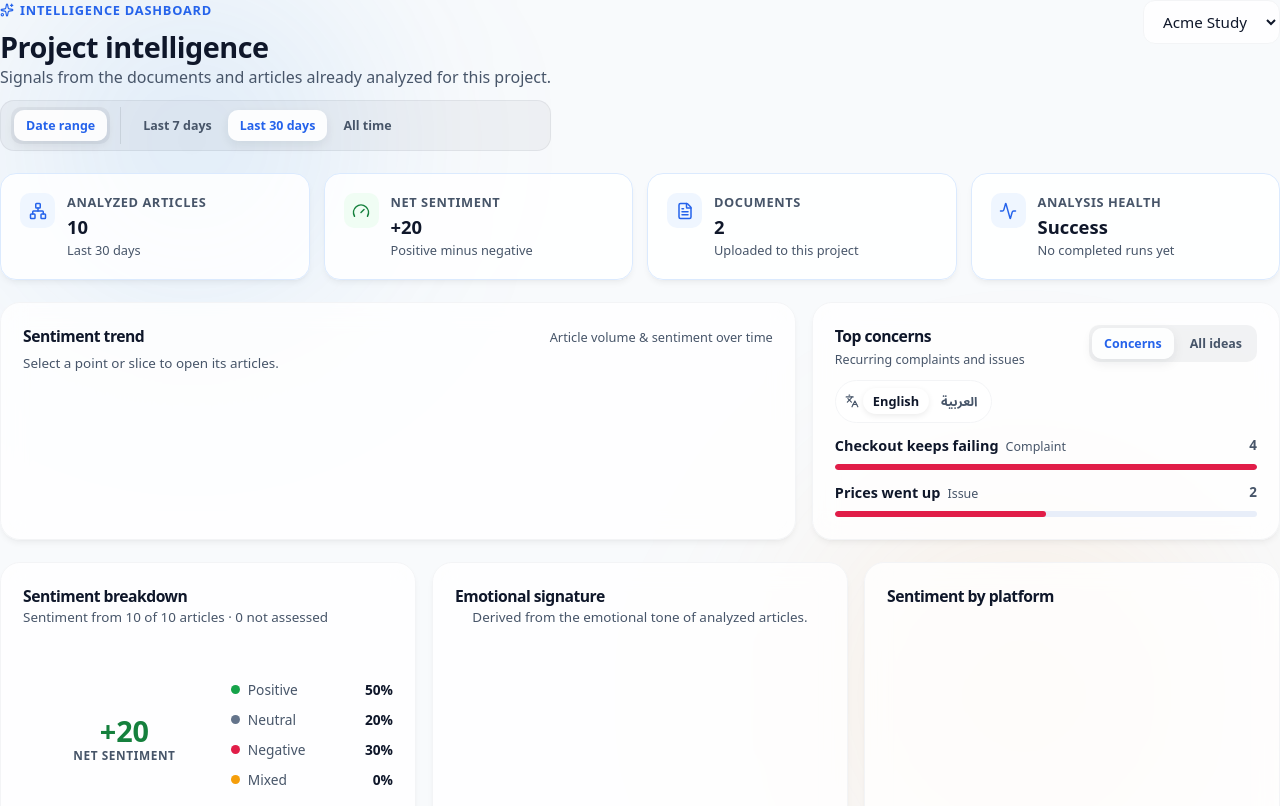
Test: DashboardOverview › paginates ideas 3 at a time and resets to page 1 when the filter changes
What coordinates should you click on to do the following:
click the tab "All ideas"
I would click on:
 (1216, 343)
Its box is 1178,328 -> 1254,359.
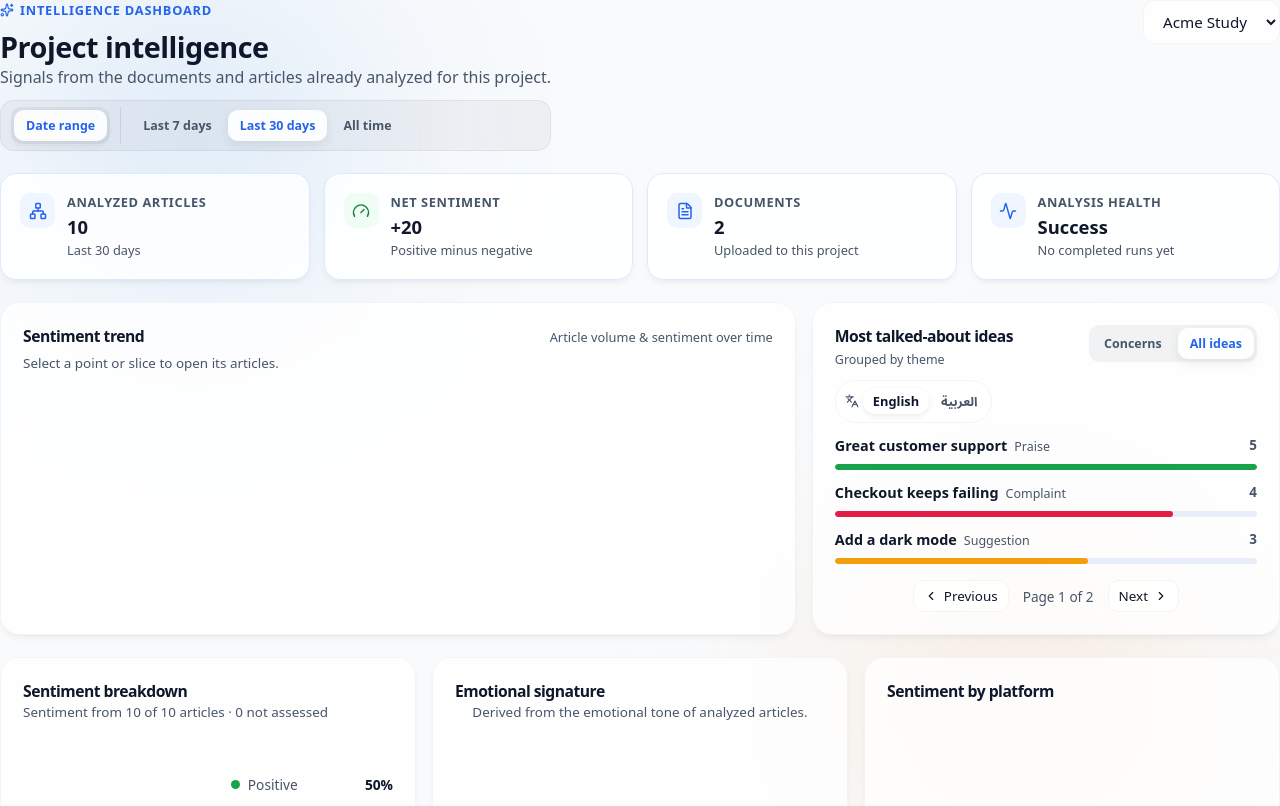
Now the text "Great customer support" is shown, box 835,436 -> 1007,456
Now the text "Add a dark mode" is shown, box 835,530 -> 957,550
Now the text "Prices went up" is gone
What coordinates should you click on to do the following:
click the button "Next"
I would click on:
 (1143, 596)
Its box is 1108,580 -> 1179,612.
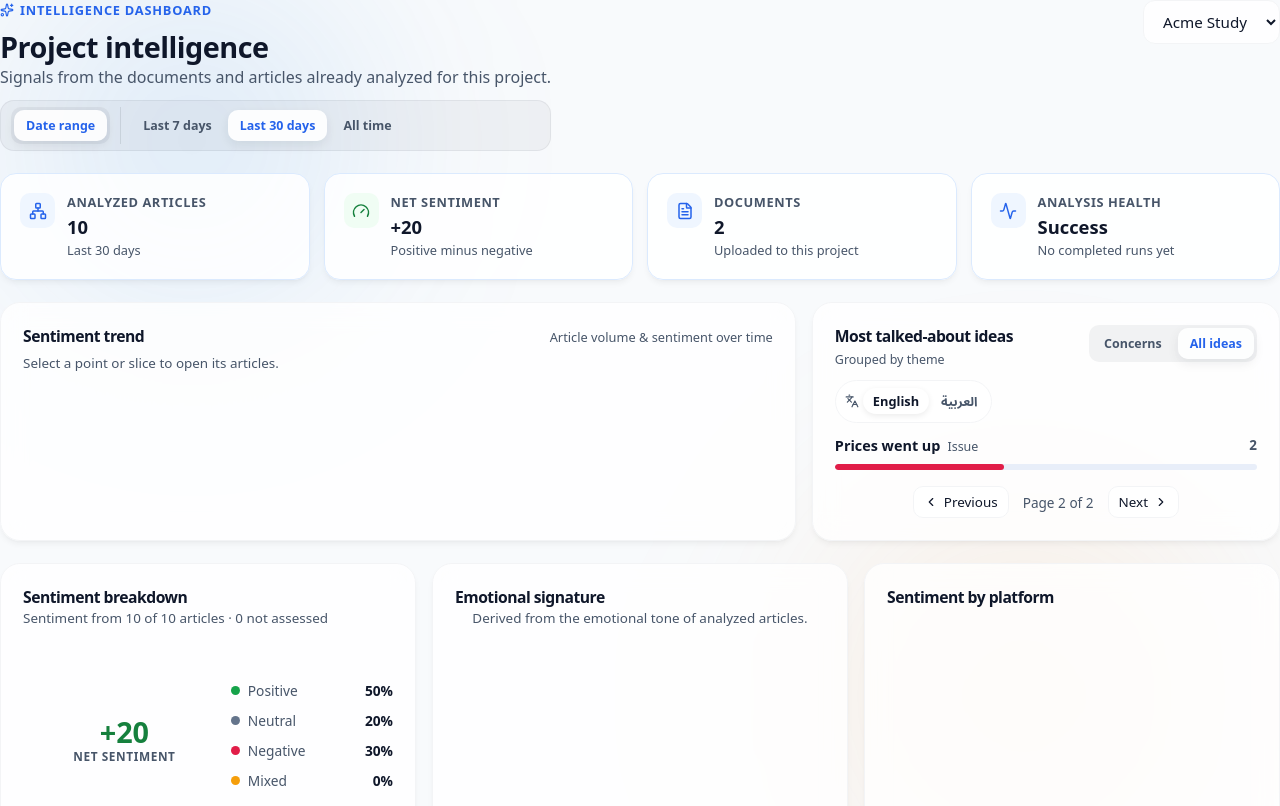
Now the text "Prices went up" is shown, box 835,436 -> 940,456
Now the text "Great customer support" is gone
Now the text "Page 2 of 2" is shown, box 1023,493 -> 1094,512
What coordinates should you click on to do the following:
click the tab "Concerns"
I would click on:
 (1133, 343)
Its box is 1092,328 -> 1174,359.
(page scrolled)
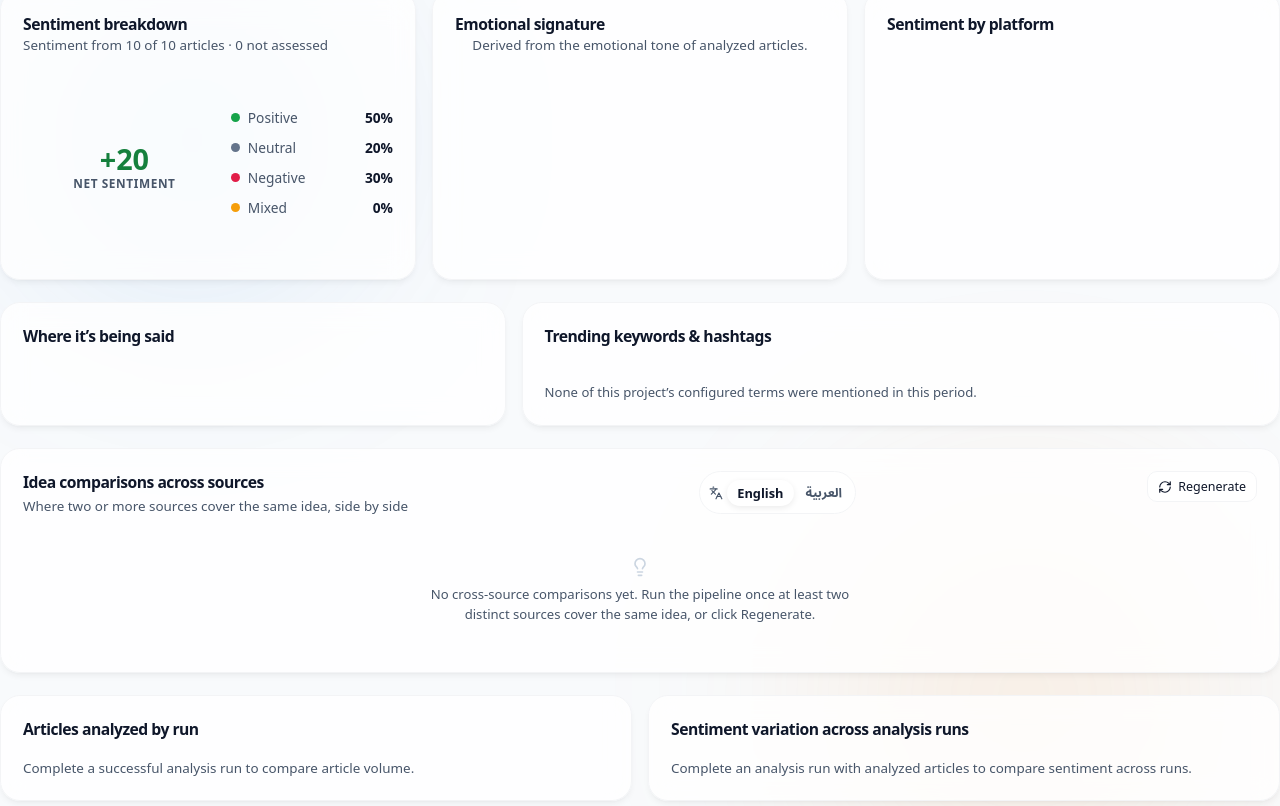
Now the text "Page 2 of 2" is gone
Now the text "No cross-source comparisons yet" is shown, box 431,585 -> 849,623
